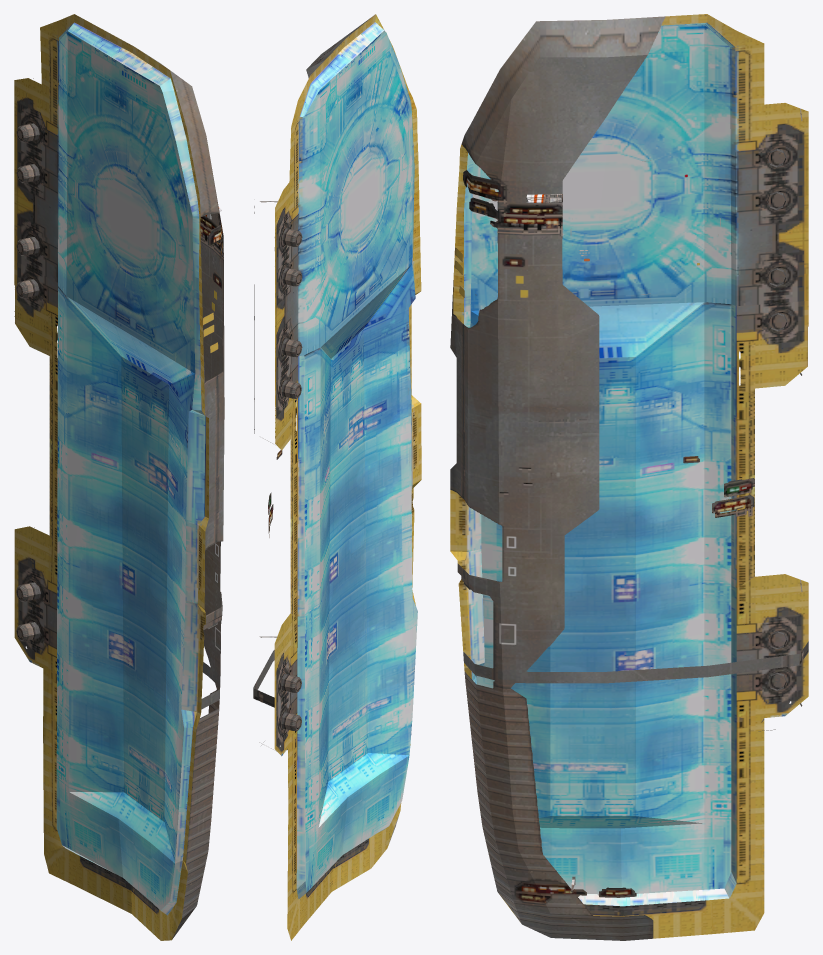
3 renders of one model, left to right at view 1: azimuth 30°, elevation 25°; view 2: azimuth 150°, elevation 25°; view 3: azimuth 270°, elevation 25°, orthographic. The views are drawn at different scales.
Visible parts, largest first — view 1: side_lower, side_upper; view 2: side_lower, side_upper; view 3: side_lower, side_upper, badge_door1.
Part boxes in pixels (bbox=[...]): side_lower: bbox=[14, 14, 224, 939]; side_upper: bbox=[14, 22, 208, 940]; side_lower: bbox=[253, 14, 420, 892]; side_upper: bbox=[253, 22, 421, 940]; side_lower: bbox=[450, 14, 808, 940]; side_upper: bbox=[450, 22, 808, 938]; badge_door1: bbox=[567, 457, 599, 532].
Bounding box in the file's own units: 117 × 1126 × 398.
